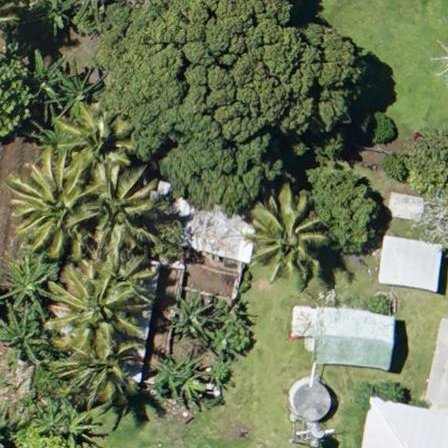palm_tree: (247, 193, 330, 276), (14, 158, 92, 241), (85, 165, 163, 241), (60, 270, 131, 345), (53, 101, 131, 169), (64, 331, 139, 400)
